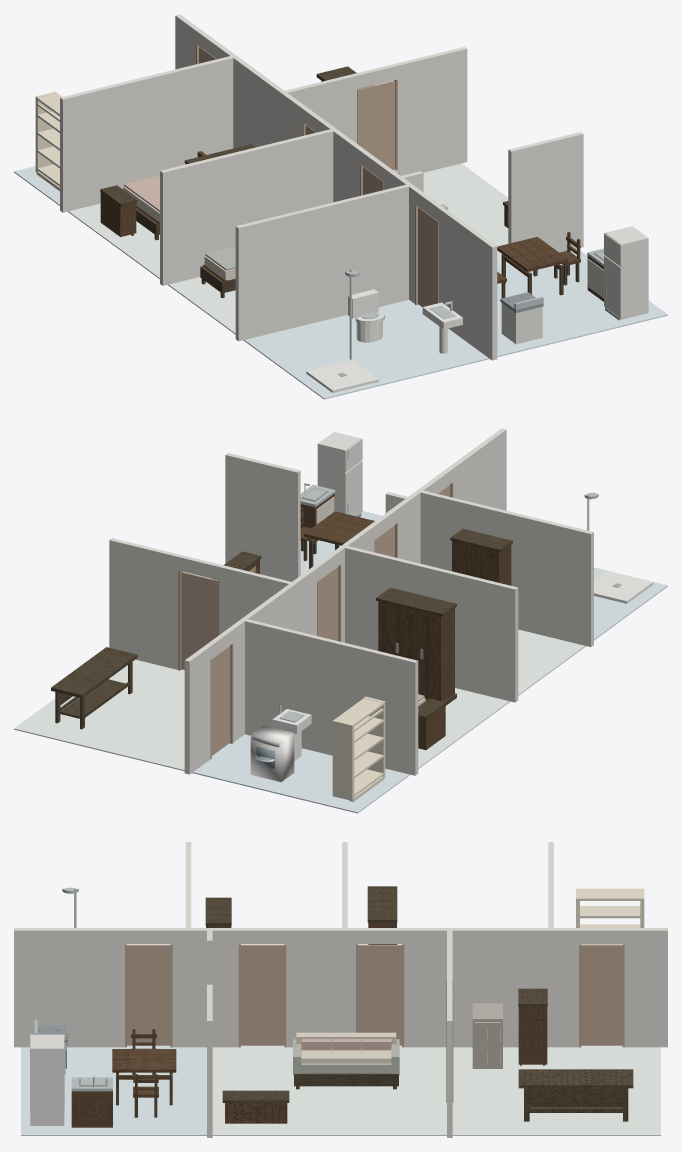
3 renders of one model, top to bottom at view 1: azimuth 30°, elevation 25°; view 2: azimuth 150°, elevation 25°; view 3: azimuth 270°, elevation 25°, orthographic. The views are drawn at different scales.
Visible parts, largest first — view 1: H16_WALL_11, H16_WALL_09, H16_WALL_10, H16_FLOOR_06_BANHEIRO, H16_WALL_00, H16_WALL_02, H16_WALL_08, H16_FLOOR_02_COZINHA_JANTAR, H16_WALL_05, H16_FLOOR_01_SALA, H16_DOOR_00_LEAF, H16_WALL_01 (+16 smaller); view 2: H16_WALL_09, H16_WALL_11, H16_WALL_10, H16_FLOOR_00_TRABALHO, H16_WALL_02, H16_WALL_00, H16_FLOOR_03_LAVANDERIA, H16_WALL_05, H16_WALL_08, H16_WALL_04, H16_DOOR_00_LEAF, H16_WALL_01 (+28 smaller); view 3: H16_WALL_05, H16_FLOOR_01_SALA, H16_FLOOR_00_TRABALHO, H16_WALL_08, H16_FLOOR_02_COZINHA_JANTAR, H16_WALL_06, H16_WALL_07, H16_WALL_04, H16_DOOR_02_LEAF, H16_DOOR_04_LEAF, H16_DOOR_03_LEAF, H16_DOOR_01_LEAF (+28 smaller).
Boxes of the visible parts, <box> form: H16_WALL_11: <box>235,184,410,341</box>; H16_WALL_09: <box>60,56,233,212</box>; H16_WALL_10: <box>160,129,333,285</box>; H16_FLOOR_06_BANHEIRO: <box>243,300,489,399</box>; H16_WALL_00: <box>394,47,467,175</box>; H16_WALL_02: <box>508,132,583,252</box>; H16_WALL_08: <box>438,206,497,360</box>; H16_FLOOR_02_COZINHA_JANTAR: <box>497,249,667,357</box>; H16_WALL_05: <box>218,45,307,148</box>; H16_FLOOR_01_SALA: <box>423,163,508,266</box>; H16_DOOR_00_LEAF: <box>359,80,395,169</box>; H16_WALL_01: <box>284,73,357,143</box>; H16_WALL_09: <box>243,619,418,775</box>; H16_WALL_11: <box>418,490,593,646</box>; H16_WALL_10: <box>344,545,518,702</box>; H16_FLOOR_00_TRABALHO: <box>14,659,184,771</box>; H16_WALL_02: <box>225,453,300,581</box>; H16_WALL_00: <box>109,538,181,669</box>; H16_FLOOR_03_LAVANDERIA: <box>192,734,410,813</box>; H16_WALL_05: <box>227,566,317,742</box>; H16_WALL_08: <box>447,428,506,510</box>; H16_WALL_04: <box>184,644,210,774</box>; H16_DOOR_00_LEAF: <box>181,571,217,669</box>; H16_WALL_01: <box>218,565,293,634</box>; H16_WALL_05: <box>403,928,579,1047</box>; H16_FLOOR_01_SALA: <box>212,1046,446,1135</box>; H16_FLOOR_00_TRABALHO: <box>452,1046,660,1135</box>; H16_WALL_08: <box>14,928,125,1047</box>; H16_FLOOR_02_COZINHA_JANTAR: <box>21,1046,206,1135</box>; H16_WALL_06: <box>285,928,357,1047</box>; H16_WALL_07: <box>171,928,239,1047</box>; H16_WALL_04: <box>623,928,667,1047</box>; H16_DOOR_02_LEAF: <box>241,945,284,1045</box>; H16_DOOR_04_LEAF: <box>581,945,622,1045</box>; H16_DOOR_03_LEAF: <box>127,945,170,1045</box>; H16_DOOR_01_LEAF: <box>358,945,401,1045</box>.
Size of the model in its own units: 7.99 by 2.46 by 12.34.
Materials: 22 (3 with a texture image).
